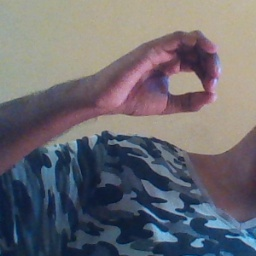O: (107, 28, 224, 123)
